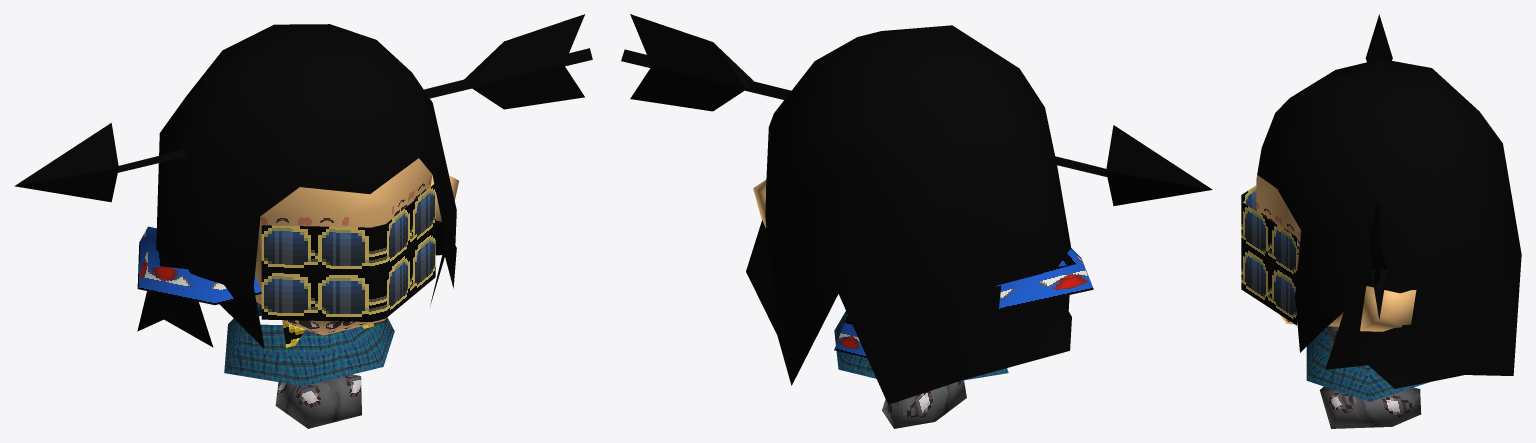
The picture shows the model from 3 angles, left to right: view 1: azimuth 30°, elevation 25°; view 2: azimuth 150°, elevation 25°; view 3: azimuth 270°, elevation 25°; orthographic projection. The views are drawn at different scales.
Visible parts, largest first — view 1: pmd46_00_03; view 2: pmd46_00_03; view 3: pmd46_00_03.
Boxes of the visible parts, bbox=[...] form: pmd46_00_03: bbox=[14, 14, 592, 428]; pmd46_00_03: bbox=[621, 14, 1212, 428]; pmd46_00_03: bbox=[1241, 14, 1521, 428].
Bounding box in the file's own units: 2.16 × 1.32 × 0.9778.
Materials: 8 (8 with a texture image).
